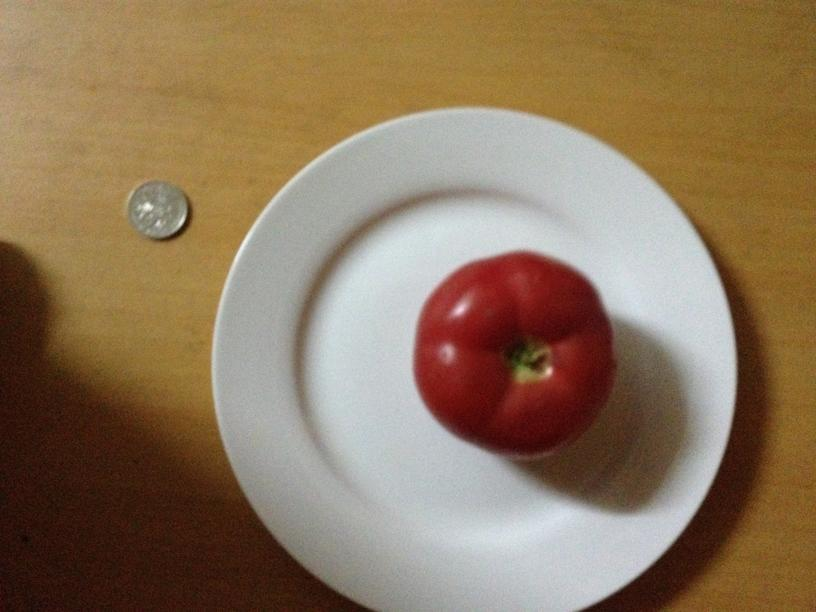coin: (125, 180, 192, 238)
tomato: (405, 246, 614, 459)
